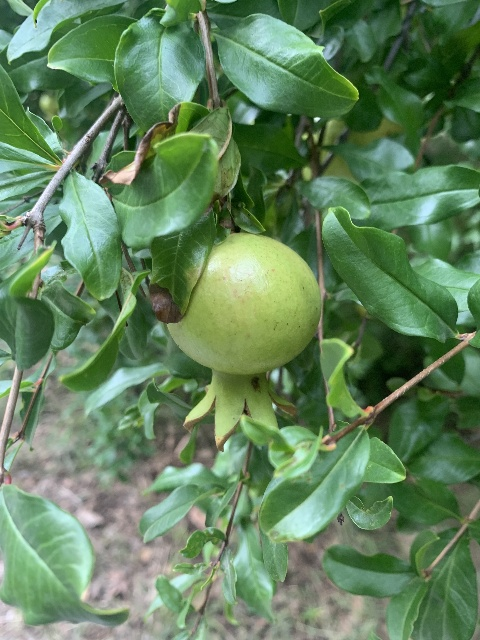mid-growth: (165, 231, 321, 452)
